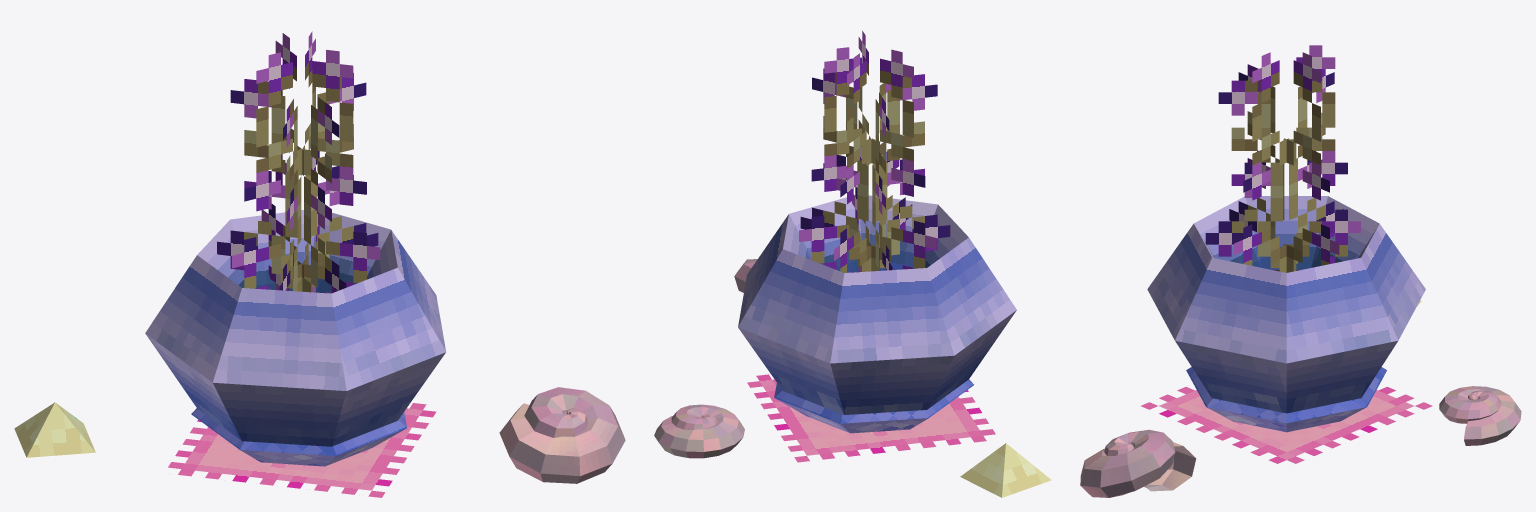
File: beach_flower_pot.glb
3 renders of one model, left to right at view 1: azimuth 30°, elevation 25°; view 2: azimuth 150°, elevation 25°; view 3: azimuth 270°, elevation 25°, orthographic. The views are drawn at different scales.
Visible parts, largest first — view 1: flowerpot_12, cube_5, Object_7, cube_6, cube_2, cube_3, pyramid_7, cube_4; view 2: flowerpot_12, cube_4, cube_2, cube_6, Object_5, cube_3, pyramid_7, cube_5; view 3: flowerpot_12, cube_3, cube_6, Object_7, cube_5, cube_4, Object_5.
Boxes of the visible parts, bbox=[...] form: flowerpot_12: bbox=[145, 210, 445, 466]; cube_5: bbox=[217, 49, 380, 293]; Object_7: bbox=[499, 387, 625, 483]; cube_6: bbox=[168, 403, 436, 497]; cube_2: bbox=[232, 52, 378, 291]; cube_3: bbox=[261, 33, 346, 293]; pyramid_7: bbox=[14, 402, 95, 457]; cube_4: bbox=[279, 31, 319, 292]; flowerpot_12: bbox=[738, 195, 1016, 433]; cube_4: bbox=[799, 47, 950, 272]; cube_2: bbox=[800, 49, 936, 270]; cube_6: bbox=[747, 374, 995, 462]; Object_5: bbox=[654, 404, 744, 458]; cube_3: bbox=[834, 53, 912, 272]; pyramid_7: bbox=[960, 443, 1051, 497]; cube_5: bbox=[852, 30, 892, 272]; flowerpot_12: bbox=[1147, 196, 1425, 432]; cube_3: bbox=[1205, 45, 1360, 271]; cube_6: bbox=[1141, 386, 1432, 463]; Object_7: bbox=[1080, 429, 1196, 497]; cube_5: bbox=[1234, 52, 1343, 272]; cube_4: bbox=[1229, 52, 1339, 272]; Object_5: bbox=[1439, 386, 1521, 445].
Bounding box in the file's own units: 2.38 × 1.97 × 2.13.
Materials: 5 (5 with a texture image).
